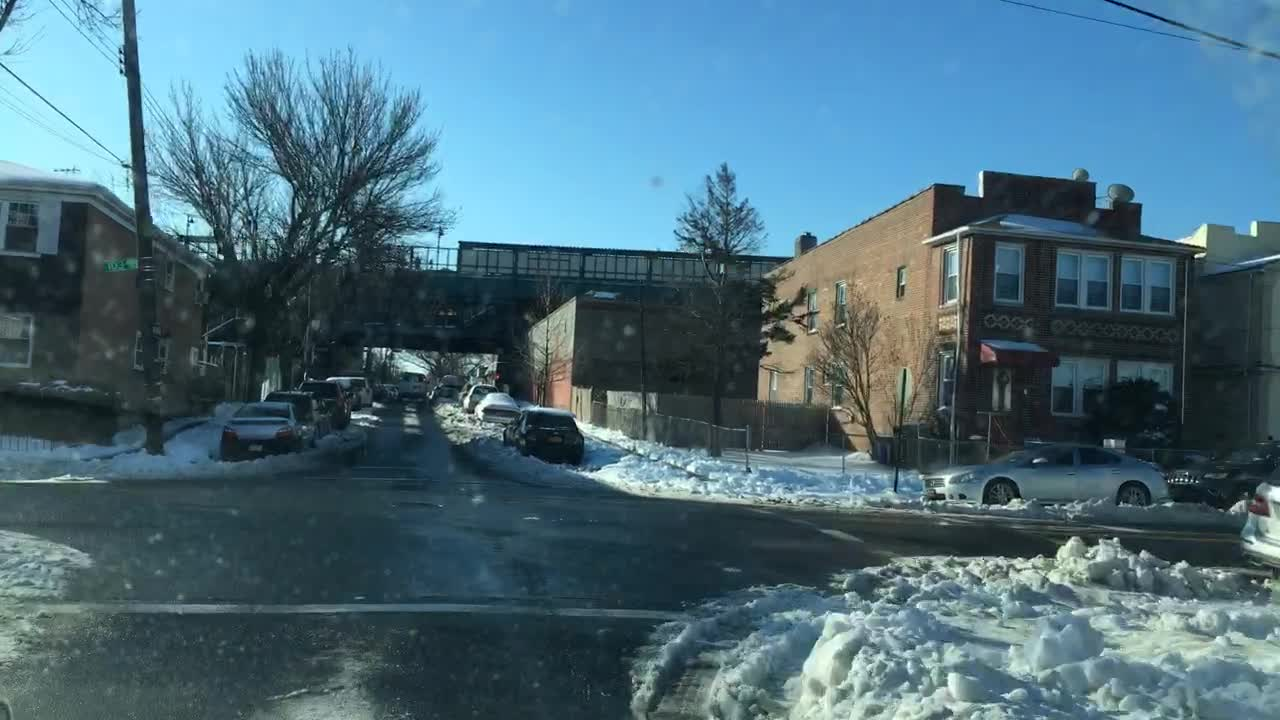car: (918, 443, 1163, 505), (1168, 444, 1279, 507), (217, 397, 296, 458), (501, 408, 584, 464), (1237, 462, 1277, 572), (263, 389, 322, 444), (301, 376, 350, 429), (474, 390, 520, 430), (1140, 450, 1210, 471), (397, 371, 429, 401), (336, 380, 366, 411), (466, 381, 492, 402), (355, 380, 375, 404), (431, 388, 459, 402), (439, 373, 460, 387), (382, 383, 392, 401)
traffic sign: (98, 261, 140, 270)
